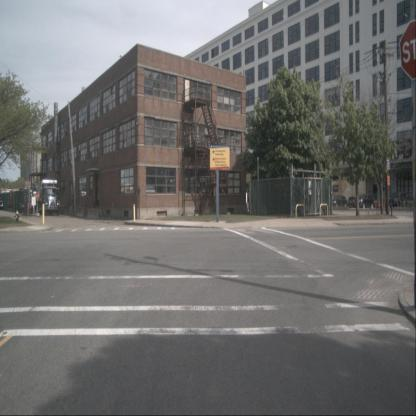movable_object-barrier: (87, 208, 100, 220), (76, 206, 85, 217)
movable_object-trafficcone: (26, 202, 30, 216)
vehicle-car: (388, 191, 408, 208), (353, 194, 374, 210), (355, 194, 374, 210), (388, 192, 408, 207), (330, 195, 347, 209), (330, 195, 347, 208), (372, 197, 388, 210), (347, 196, 361, 208), (348, 196, 360, 208), (373, 199, 386, 209)
vehicle-truck: (38, 179, 60, 216)
